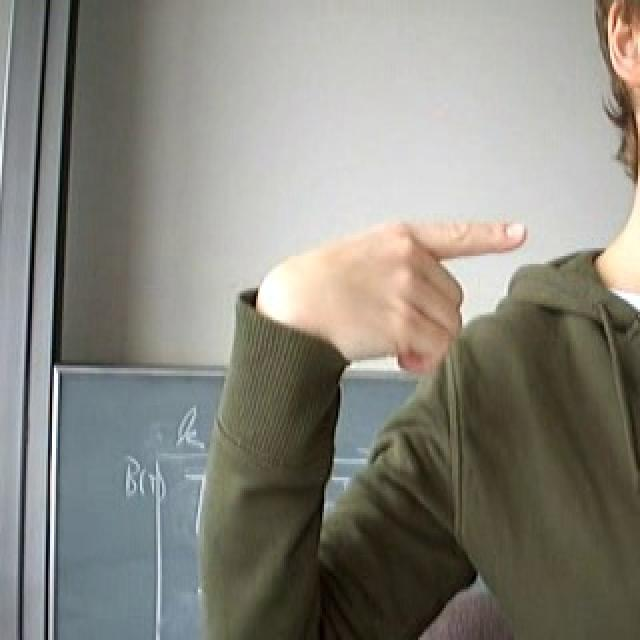G: (250, 199, 527, 391)
